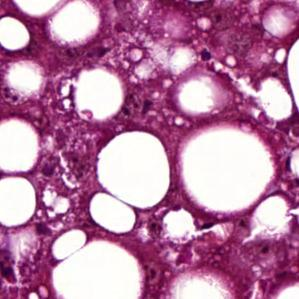steatosis: (96, 134, 176, 207)
